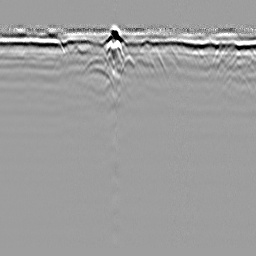cavity: (122, 52, 135, 75)
